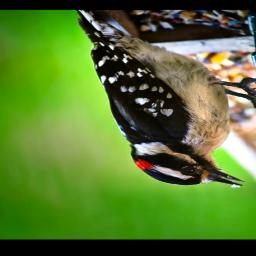Woodpecker: (76, 10, 256, 188)
